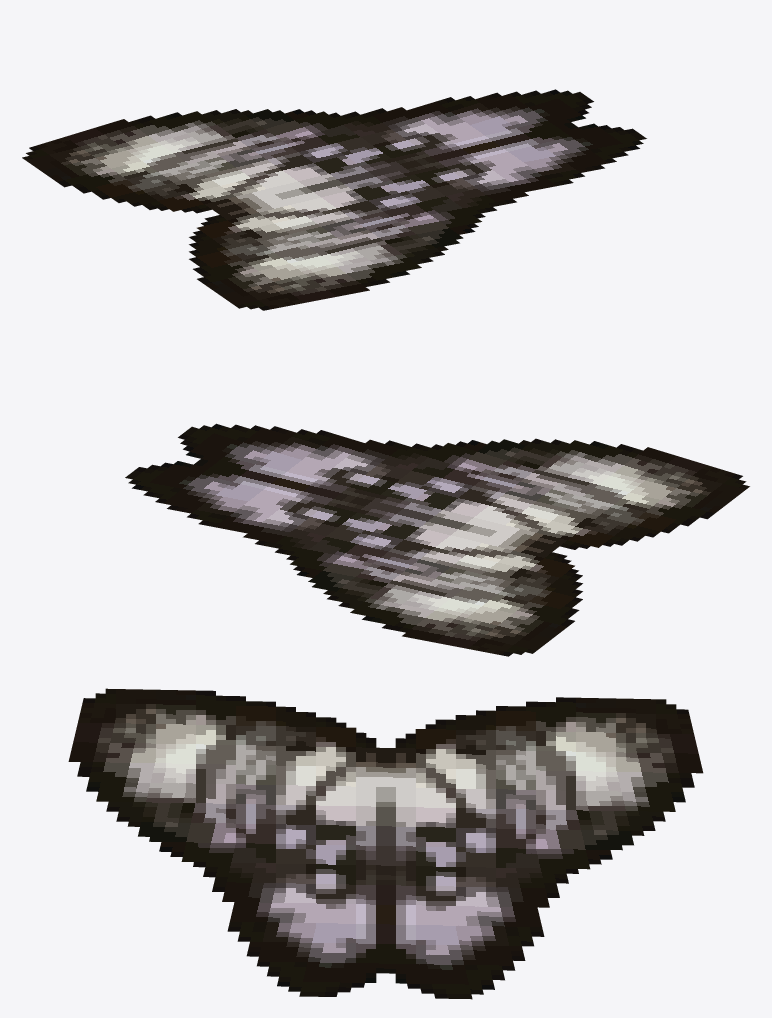
File: butterflywhite01.glb
3 renders of one model, top to bottom at view 1: azimuth 30°, elevation 25°; view 2: azimuth 150°, elevation 25°; view 3: azimuth 270°, elevation 25°, orthographic. The views are drawn at different scales.
Bounding box in the file's own units: 0.2013 × 0.00353 × 0.2084.
1 material, 1 textured.
